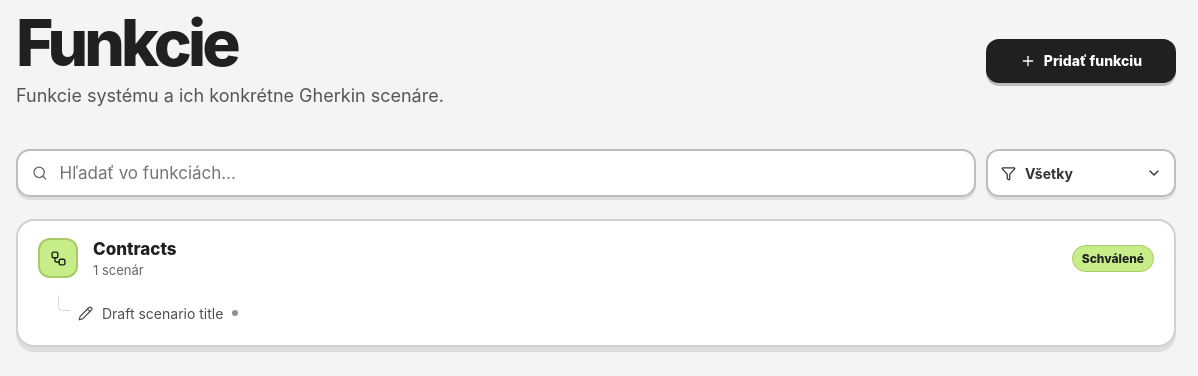
Test: LibraryPage › selects revision-specific titles for nested scenarios without hiding their feature context
Check: the text "Draft scenario title" is shown, box left=102, top=305, right=223, bottom=322
Check: the text with class "status-badge" reads "Schválené", box left=1082, top=251, right=1144, bottom=266
Click the button with aria-label "Filtrovať podľa stavu: Všetky" at (1081, 173), box left=986, top=149, right=1176, bottom=197
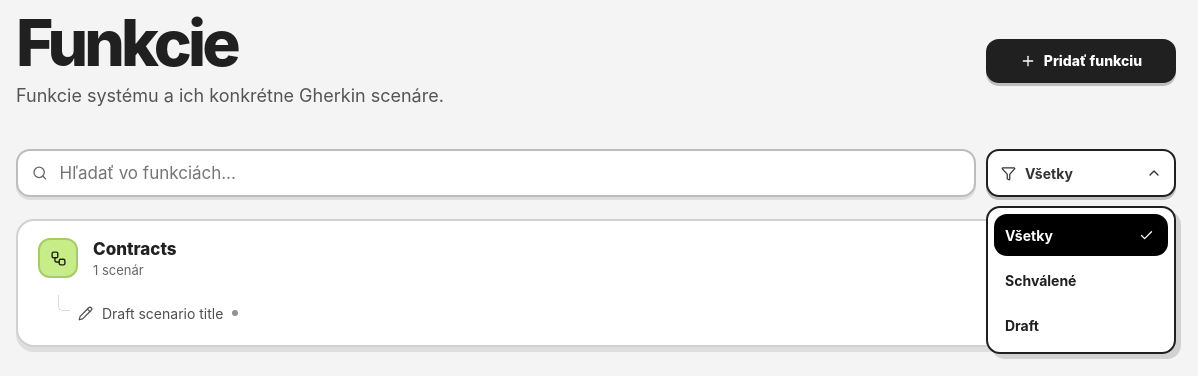
Click the option "Schválené" at (1081, 280), box left=994, top=259, right=1168, bottom=301
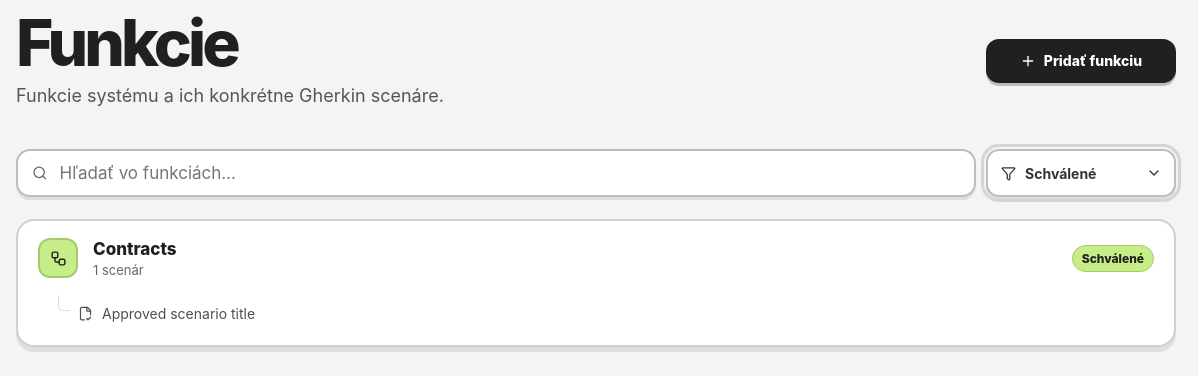
Check: the text "Approved scenario title" is shown, box left=102, top=305, right=255, bottom=322
Check: the link "Draft scenario title" is gone
Check: the icon with class "draft-dot" is gone
Click the button with aria-label "Filtrovať podľa stavu: Schválené" at (1081, 173), box left=986, top=149, right=1176, bottom=197
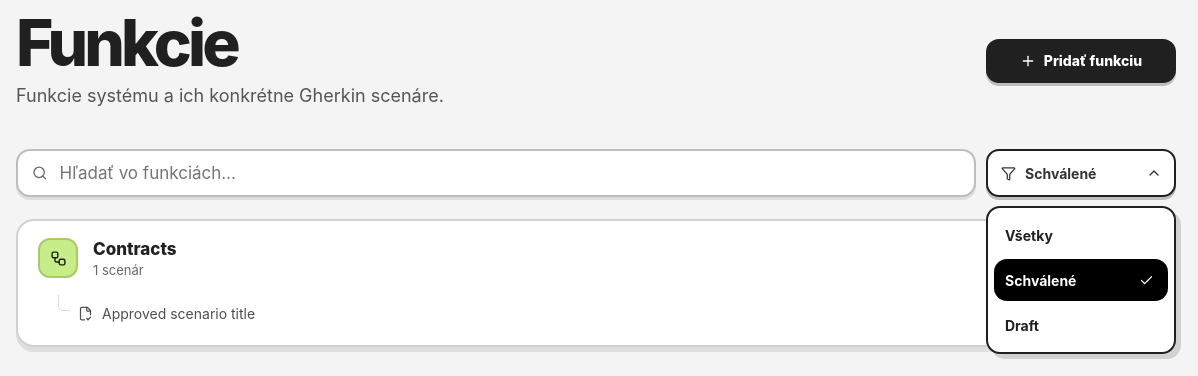
Click the option "Draft" at (1081, 325), box left=994, top=304, right=1168, bottom=346
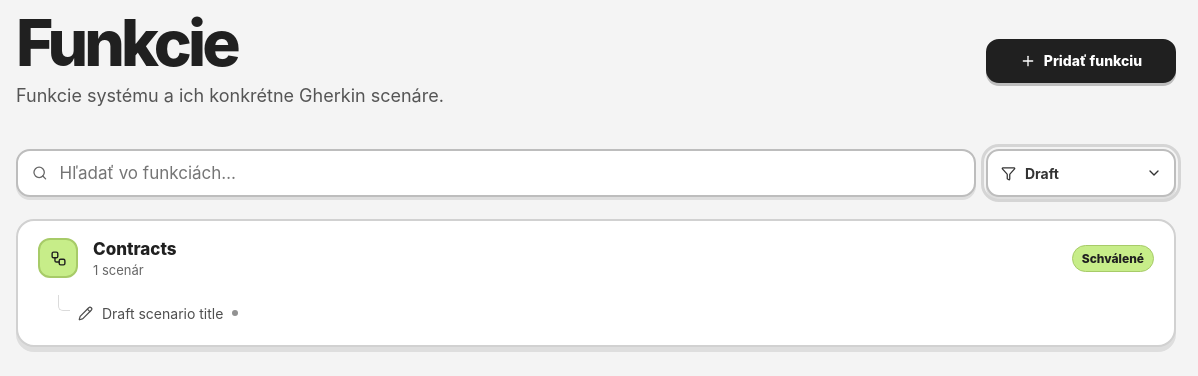
Check: the text "Draft scenario title" is shown, box left=102, top=305, right=223, bottom=322
Check: the link "Approved scenario title" is gone
Check: the icon with class "draft-dot" is shown, box left=232, top=310, right=238, bottom=316
